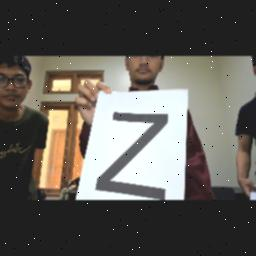z: (94, 108, 178, 200)
